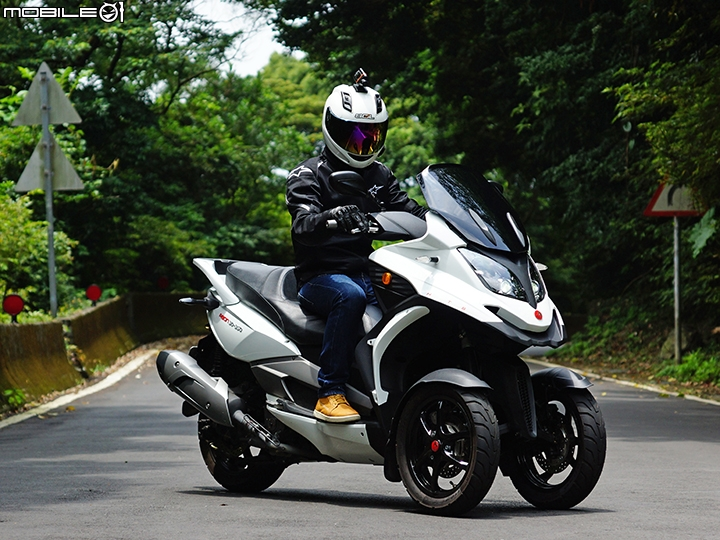helmet: (327, 85, 391, 157)
